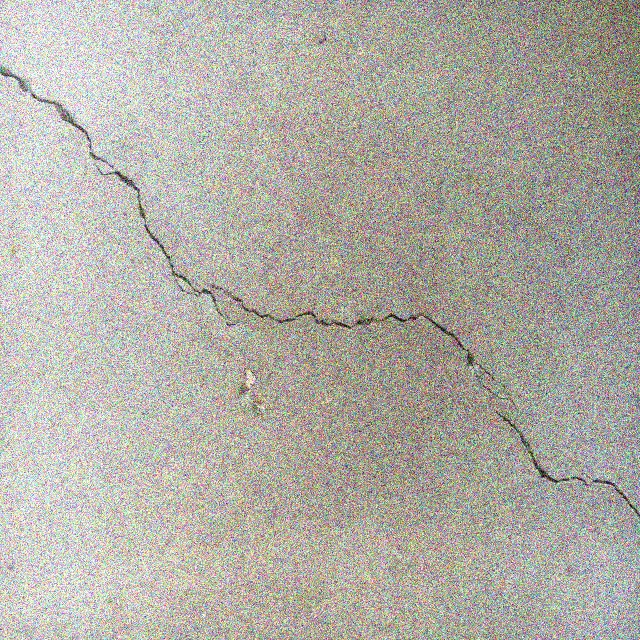SurfaceCrack: (2, 50, 640, 636)
